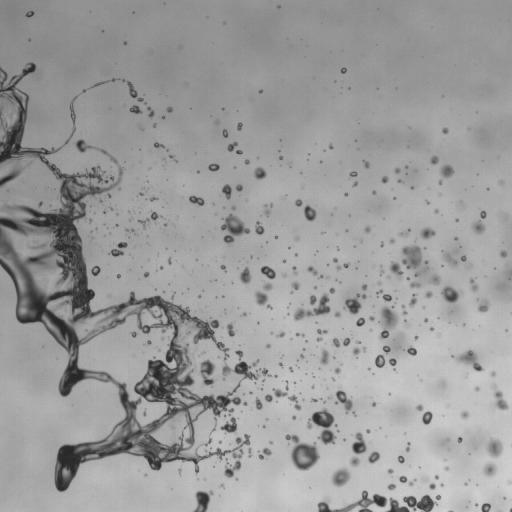droplet: (285, 435, 319, 470), (389, 245, 423, 278), (306, 408, 336, 444), (293, 293, 330, 320), (221, 214, 250, 243), (254, 282, 272, 309), (344, 294, 366, 314), (193, 490, 213, 511), (335, 390, 352, 413), (441, 286, 463, 302), (332, 468, 350, 486), (486, 438, 503, 457), (110, 242, 127, 256), (304, 204, 316, 221), (261, 266, 275, 279), (483, 462, 496, 476), (240, 267, 251, 283), (440, 164, 453, 177), (421, 227, 435, 239), (189, 195, 204, 205), (254, 167, 266, 179), (478, 299, 489, 312), (422, 411, 433, 424), (258, 448, 271, 459), (352, 347, 366, 357), (222, 184, 231, 199), (320, 349, 329, 364), (316, 329, 327, 341), (368, 451, 379, 463), (375, 354, 385, 367), (255, 221, 264, 234), (470, 278, 478, 292), (227, 323, 235, 336), (429, 275, 440, 284), (227, 142, 237, 151), (307, 266, 317, 275), (406, 346, 416, 355), (130, 105, 141, 113), (91, 266, 100, 275), (356, 317, 365, 326), (208, 164, 219, 171), (255, 398, 262, 409), (481, 503, 490, 511), (147, 107, 154, 117), (399, 229, 409, 236), (409, 282, 420, 288), (430, 156, 438, 164), (291, 282, 299, 290), (389, 358, 396, 367), (383, 345, 390, 353), (460, 411, 468, 418), (388, 483, 396, 490), (276, 331, 285, 337), (154, 142, 164, 147), (381, 176, 388, 183), (295, 199, 302, 206), (500, 250, 507, 257), (425, 291, 432, 298), (416, 404, 423, 411), (397, 456, 404, 463), (222, 129, 228, 137), (26, 11, 33, 17), (363, 161, 369, 168), (236, 184, 242, 191), (237, 122, 242, 130), (349, 171, 357, 176), (292, 266, 297, 274), (442, 127, 448, 133), (220, 265, 226, 271), (334, 311, 340, 317), (387, 468, 393, 474), (429, 483, 435, 489), (149, 196, 156, 201), (365, 226, 370, 233), (199, 351, 206, 356), (311, 397, 318, 402), (341, 67, 346, 73), (166, 107, 172, 112), (361, 284, 366, 290), (329, 287, 334, 293), (334, 368, 340, 373), (380, 268, 384, 275), (244, 159, 249, 164), (395, 168, 400, 173), (389, 238, 394, 243), (461, 256, 466, 261), (369, 316, 374, 321), (131, 331, 136, 336), (457, 437, 462, 442), (236, 150, 242, 154), (143, 409, 146, 416), (169, 155, 174, 159), (438, 179, 442, 184), (294, 236, 299, 240), (144, 272, 148, 277), (241, 312, 246, 316), (146, 340, 151, 344), (279, 362, 283, 367), (491, 371, 495, 376), (475, 386, 479, 391), (444, 466, 449, 470), (168, 258, 171, 264), (499, 180, 503, 184), (353, 182, 357, 186), (38, 202, 42, 206), (434, 209, 438, 213), (333, 258, 337, 262), (414, 272, 418, 276), (377, 281, 381, 285), (266, 344, 270, 348), (300, 354, 304, 358), (289, 367, 293, 371), (292, 415, 296, 419), (366, 429, 370, 433), (434, 475, 438, 479), (220, 484, 224, 488), (329, 144, 332, 149), (82, 89, 86, 92), (215, 120, 218, 124), (398, 179, 402, 182), (139, 192, 143, 195), (380, 242, 383, 246), (424, 260, 427, 264), (319, 275, 323, 278), (404, 320, 407, 324), (508, 480, 511, 484), (259, 90, 262, 93), (279, 156, 282, 159), (99, 199, 102, 202), (426, 200, 429, 203), (232, 206, 235, 209), (455, 218, 458, 221), (283, 274, 286, 277), (430, 327, 433, 330), (311, 385, 314, 388), (372, 402, 375, 405), (178, 469, 181, 472), (372, 191, 376, 193), (424, 319, 428, 321), (415, 336, 417, 340), (111, 79, 114, 81), (344, 193, 347, 195), (460, 201, 462, 204), (164, 223, 166, 226), (455, 237, 457, 240), (283, 260, 286, 262), (117, 275, 120, 277), (407, 277, 409, 280), (314, 286, 316, 289), (356, 341, 359, 343), (274, 375, 277, 377), (443, 381, 445, 384), (353, 412, 355, 415), (446, 438, 449, 440), (219, 440, 221, 443), (270, 441, 272, 444), (509, 508, 511, 511), (124, 42, 126, 44), (162, 116, 164, 118), (153, 124, 155, 126), (411, 187, 413, 189), (270, 204, 272, 206), (103, 210, 105, 212), (90, 219, 92, 221), (275, 236, 277, 238), (250, 255, 252, 257), (387, 275, 389, 277), (198, 295, 200, 297), (332, 378, 334, 380), (262, 380, 264, 382), (236, 478, 238, 480), (424, 478, 426, 480)
ligament: (0, 64, 271, 489), (317, 490, 440, 511), (378, 306, 398, 339), (452, 350, 483, 371), (350, 432, 366, 466), (492, 384, 508, 410), (264, 386, 288, 402), (125, 80, 143, 101), (138, 211, 160, 227), (472, 210, 486, 233), (442, 251, 458, 266), (65, 125, 75, 143), (376, 289, 391, 301), (332, 337, 350, 347), (289, 395, 301, 410), (399, 476, 416, 486), (70, 97, 76, 122), (504, 262, 511, 280), (409, 293, 417, 307), (336, 263, 349, 270), (92, 81, 106, 87), (202, 437, 212, 445), (264, 205, 269, 216), (401, 304, 406, 315), (295, 332, 305, 336), (405, 443, 410, 451), (126, 229, 134, 232), (211, 426, 215, 432), (449, 510, 452, 511)
